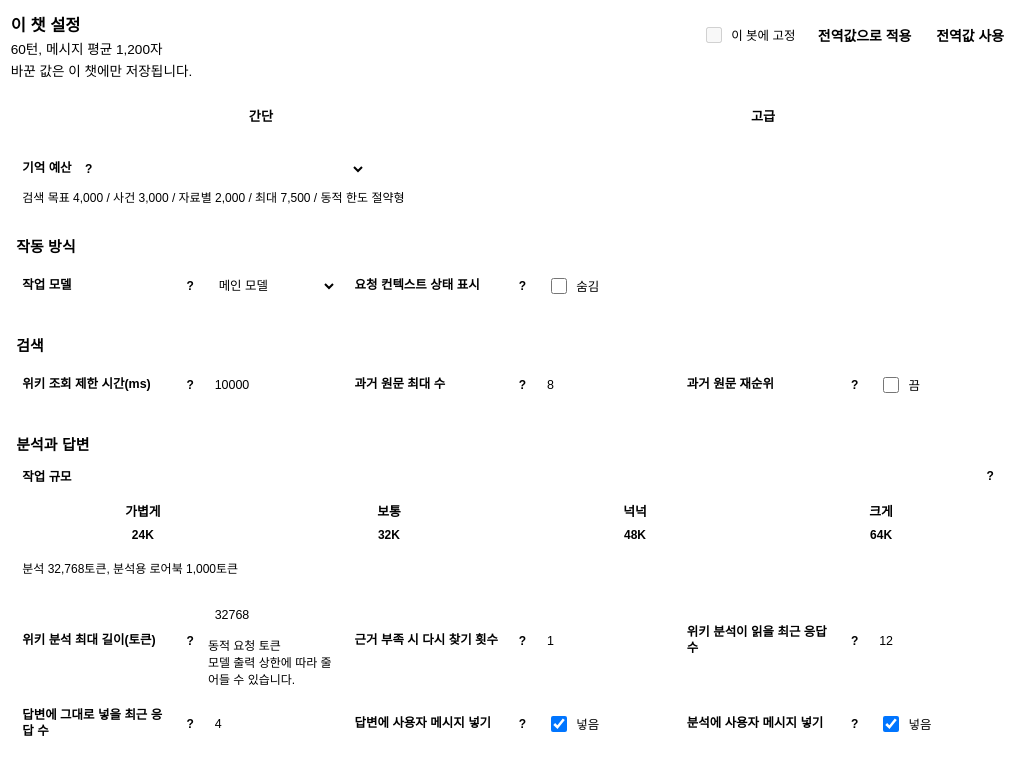
Test case: RisuBardCurrentChatSettings › using global without a pin drops only the chat overrides
The width and height of the screenshot is (1024, 759).
Click the button "전역값 사용" at (970, 35), box [927, 14, 1013, 55]
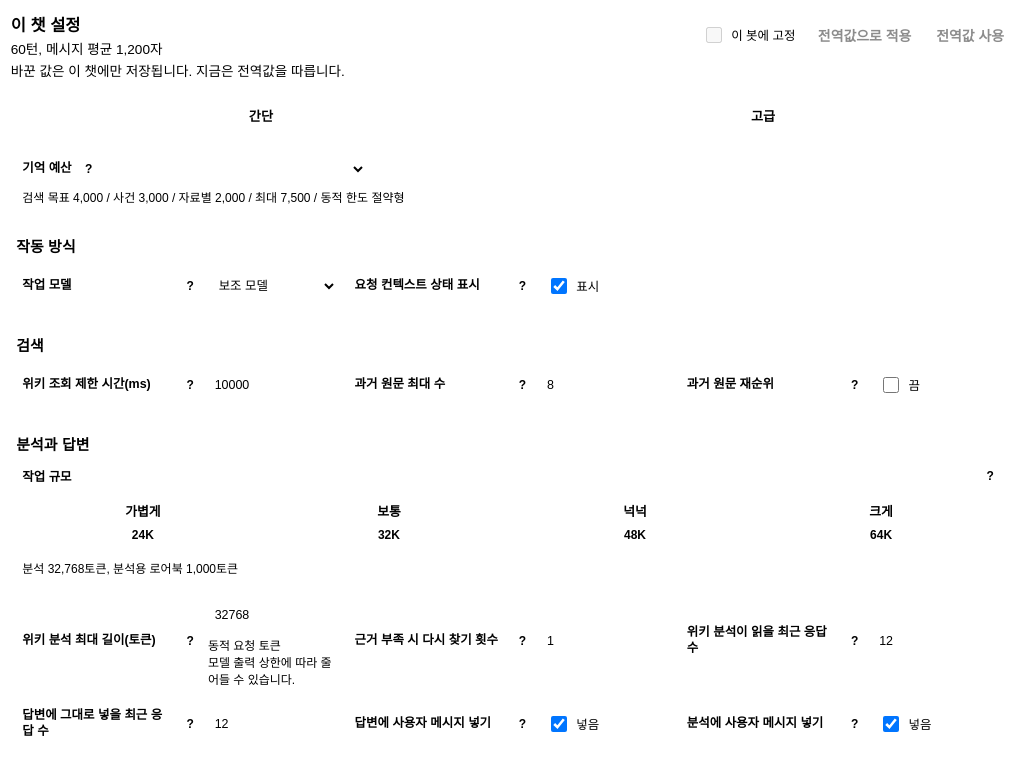
Result: the button "전역값 사용" is disabled at [927, 14, 1013, 55]
